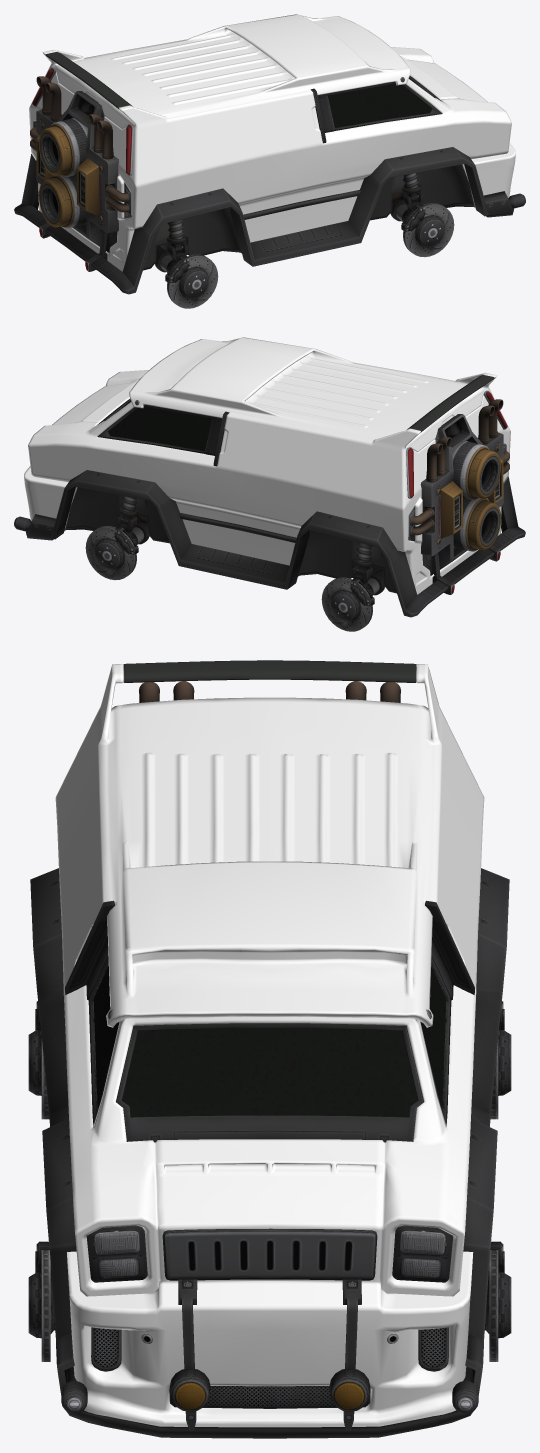
The model's file is merc.glb.
3 renders of one model, top to bottom at view 1: azimuth 30°, elevation 25°; view 2: azimuth 150°, elevation 25°; view 3: azimuth 270°, elevation 25°, orthographic. The views are drawn at different scales.
Visible parts, largest first — view 1: Merc_Body, Merc_Chassis; view 2: Merc_Body, Merc_Chassis; view 3: Merc_Body, Merc_Chassis.
Part boxes in pixels (x1,y1,x2,y2): Merc_Body: [29, 14, 515, 271]; Merc_Chassis: [14, 67, 525, 308]; Merc_Body: [24, 337, 510, 594]; Merc_Chassis: [14, 390, 525, 631]; Merc_Body: [55, 660, 484, 1427]; Merc_Chassis: [28, 681, 511, 1438].
Bounding box in the file's own units: 1.46 × 0.6524 × 0.6908.
Materials: 2 (2 with a texture image).
